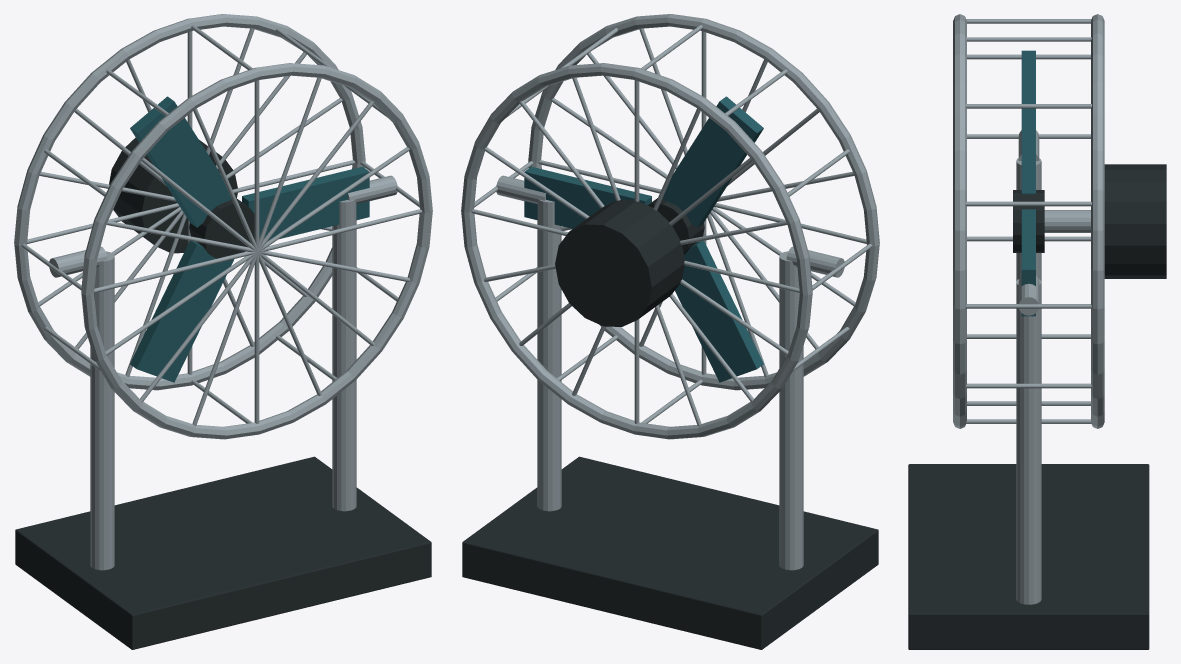
The model's file is industrial-fan.glb.
3 renders of one model, left to right at view 1: azimuth 30°, elevation 25°; view 2: azimuth 150°, elevation 25°; view 3: azimuth 270°, elevation 25°, orthographic. The views are drawn at different scales.
Visible parts, largest first — view 1: Foot, Cage_Rim.001, Cage_Rim, Stand.001, Stand, Blade, Blade.002, Blade.001, Motor, Rotor_Hub, Cage_Spoke.005, Cage_Spoke.013 (+20 smaller); view 2: Foot, Cage_Rim, Motor, Cage_Rim.001, Stand.001, Stand, Blade, Blade.002, Blade.001, Rotor_Hub, Mount.001, Mount (+13 smaller); view 3: Foot, Stand.001, Motor, Cage_Rim, Cage_Rim.001, Blade.002, Rotor_Hub, Blade.001, Axle, Cage_Depth.002, Cage_Depth, Stand (+11 smaller).
Boxes of the visible parts, box(x1,y1,x2,y2) form: Foot: box(15, 456, 431, 649); Cage_Rim.001: box(81, 63, 432, 439); Cage_Rim: box(14, 14, 365, 390); Stand.001: box(332, 199, 356, 511); Stand: box(90, 251, 114, 570); Blade: box(130, 241, 234, 382); Blade.002: box(130, 96, 231, 227); Blade.001: box(242, 166, 369, 240); Motor: box(109, 137, 237, 253); Rotor_Hub: box(189, 198, 254, 260); Cage_Spoke.005: box(254, 80, 259, 251); Cage_Spoke.013: box(254, 252, 259, 423); Foot: box(462, 456, 878, 649); Cage_Rim: box(461, 63, 812, 439); Motor: box(555, 200, 684, 326); Cage_Rim.001: box(528, 14, 879, 390); Stand.001: box(537, 199, 561, 511); Stand: box(779, 251, 803, 570); Blade: box(675, 241, 763, 382); Blade.002: box(662, 96, 763, 227); Blade.001: box(524, 166, 651, 228); Rotor_Hub: box(648, 198, 704, 254); Mount.001: box(496, 175, 545, 203); Mount: box(786, 246, 844, 277); Foot: box(908, 464, 1149, 649); Stand.001: box(1016, 279, 1041, 604); Motor: box(1104, 164, 1166, 278); Cage_Rim: box(1091, 14, 1104, 428); Cage_Rim.001: box(953, 14, 966, 428); Blade.002: box(1021, 50, 1035, 194); Rotor_Hub: box(1013, 190, 1044, 252); Blade.001: box(1021, 209, 1035, 316); Axle: box(1044, 210, 1090, 232); Cage_Depth.002: box(965, 201, 1091, 206); Cage_Depth: box(965, 383, 1091, 388); Stand: box(1016, 158, 1041, 281).
Bounding box in the file's own units: 0.724 × 1.04 × 0.45.
